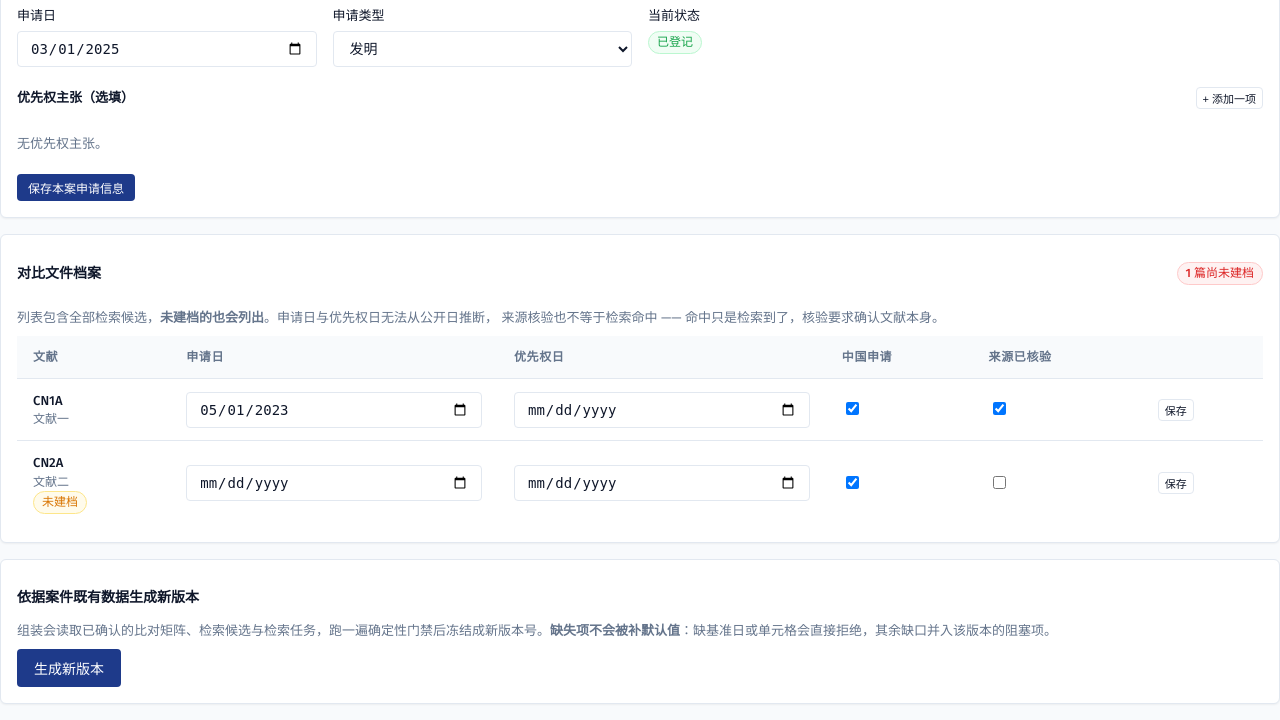
Test case: Pre-assessment input panel › translates an assembly refusal into what is actually missing
(page scrolled)
Click the button "生成新版本": (69, 668) [17,649,121,687]
(page scrolled)
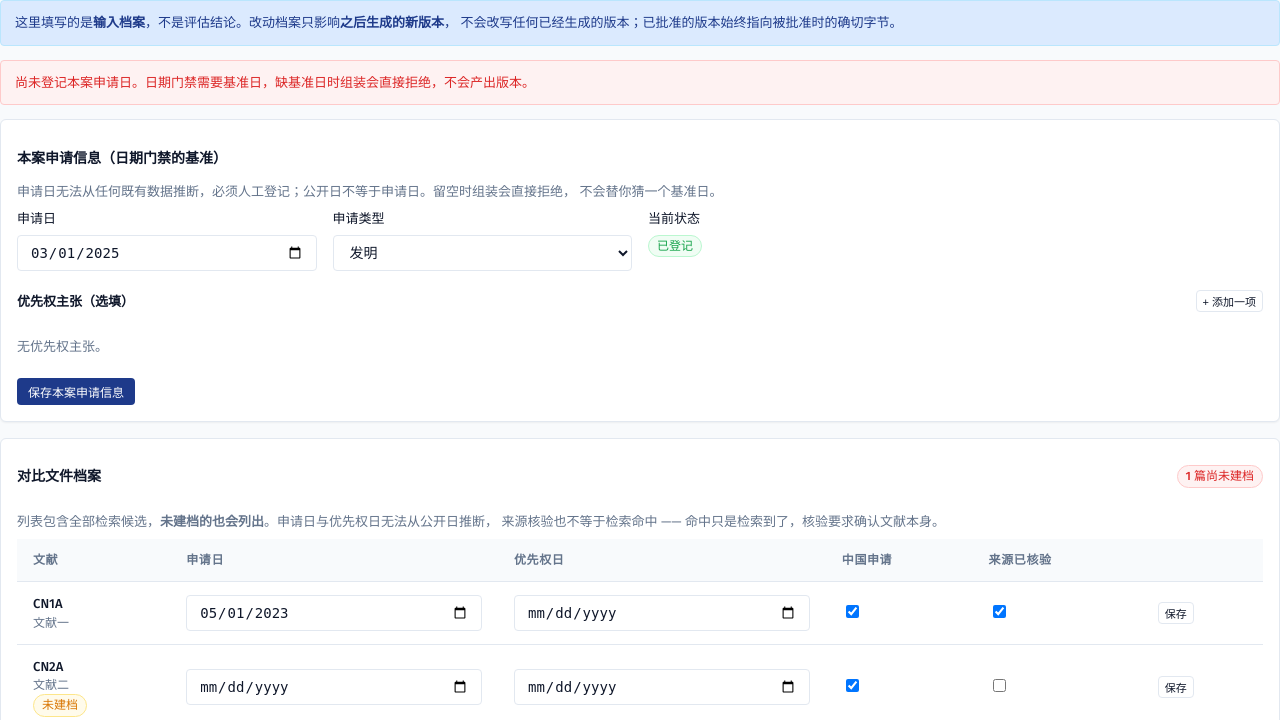
Now the text "尚未登记本案申请日。日期门禁需要基准日，缺基准日时组装会直接拒绝，不会产出版本。" is shown, box [15,74,535,90]
